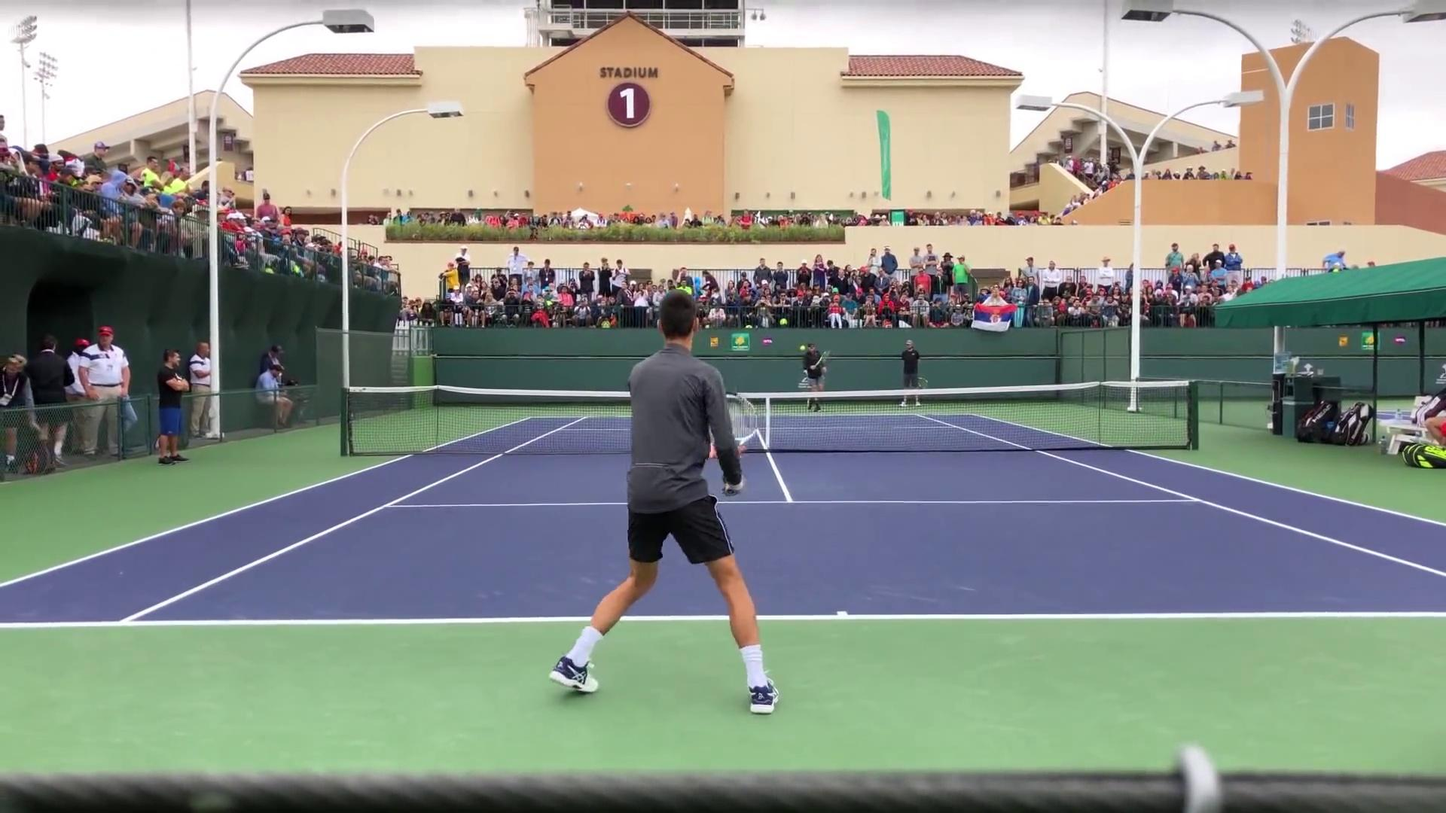ball: (801, 346, 805, 350)
